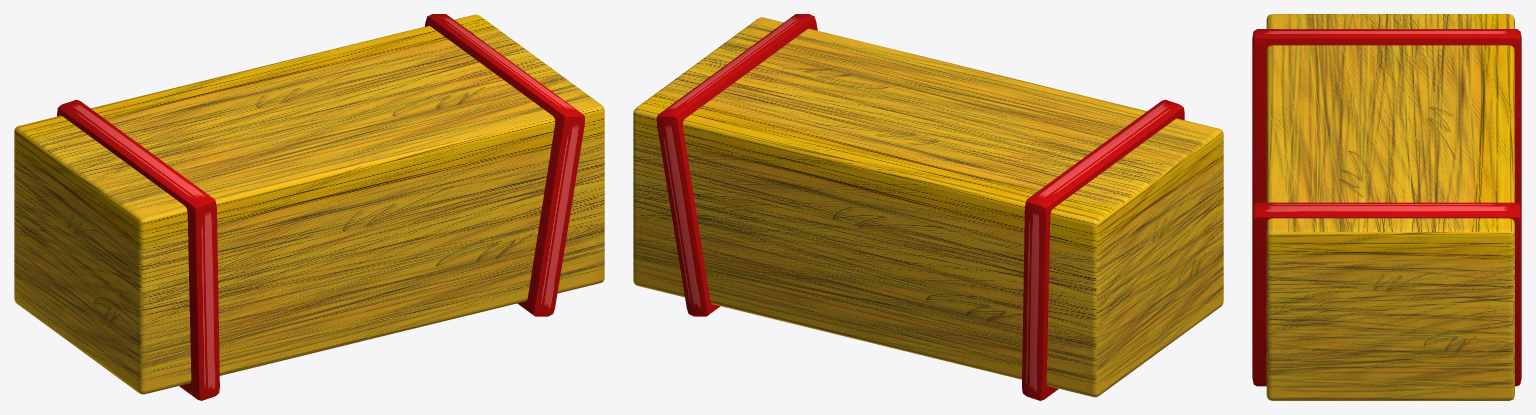
Rendered from Hay.fbx.
3 renders of one model, left to right at view 1: azimuth 30°, elevation 25°; view 2: azimuth 150°, elevation 25°; view 3: azimuth 270°, elevation 25°, orthographic. The views are drawn at different scales.
Parts seen in each view (by area): view 1: Box004, Box002, Box003; view 2: Box004, Box002, Box003; view 3: Box004, Box003, Box002.
Part boxes in pixels (x1,y1,x2,y2): Box004: (14, 14, 604, 394); Box002: (57, 99, 219, 400); Box003: (424, 14, 584, 316); Box004: (633, 17, 1223, 397); Box002: (1022, 99, 1184, 400); Box003: (656, 14, 817, 316); Box004: (1266, 14, 1514, 400); Box003: (1252, 202, 1521, 386); Box002: (1252, 29, 1521, 210).
Bounding box in the file's own units: 46.11 × 18.94 × 23.96.
2 materials, 2 textured.
